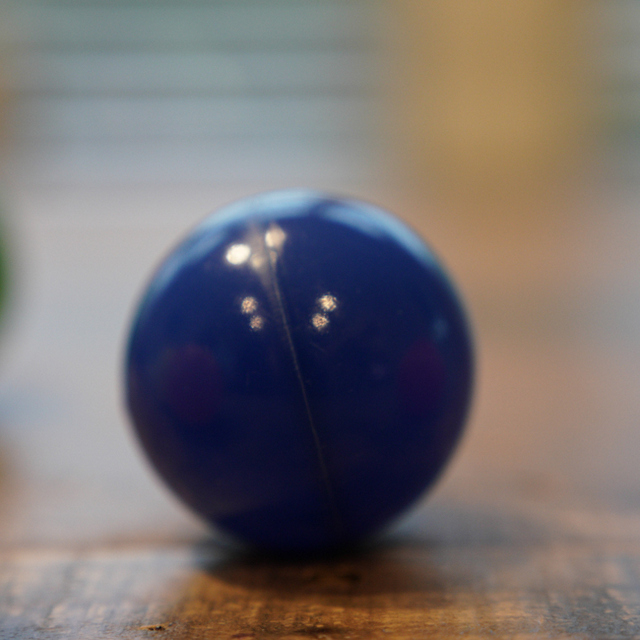Ball: (117, 189, 476, 549)
